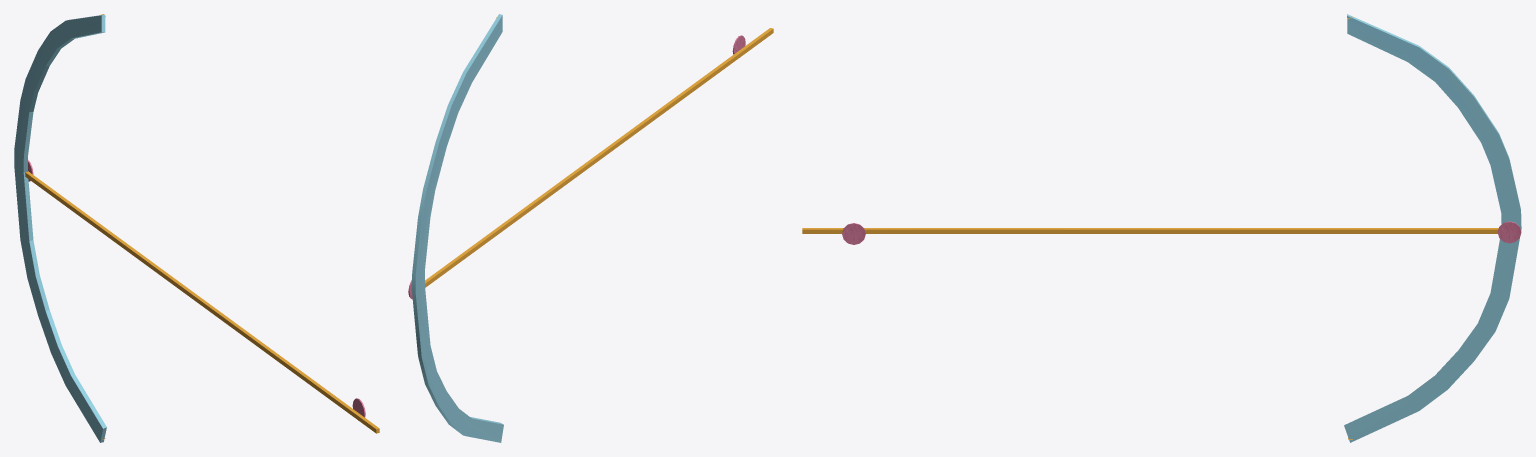
File: aperture.fbx
3 views of the same model, side by side, from view 1: azimuth 30°, elevation 25°; view 2: azimuth 150°, elevation 25°; view 3: azimuth 270°, elevation 25° (orthographic).
Parts seen in each view (by area): view 1: focal_length; view 2: focal_length; view 3: focal_length.
Boxes of the visible parts, x1,y1,x2,y2 form: focal_length: (14,14,379,442); focal_length: (408,14,773,442); focal_length: (802,14,1521,442).
Bounding box in the file's own units: 0.9934 × 38.58 × 58.85.
1 material, 1 textured.
